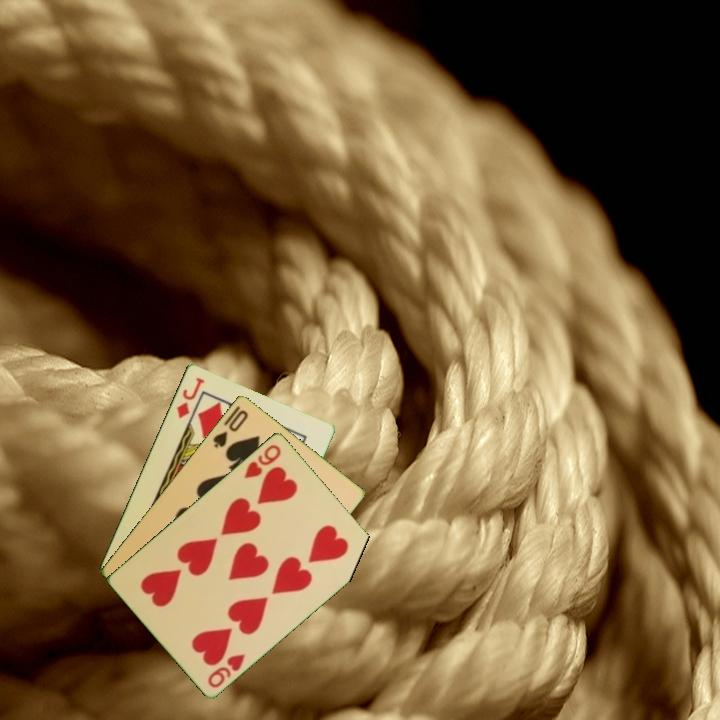10s: (209, 406, 251, 451)
9h: (240, 440, 284, 481), (204, 650, 248, 690)
Jd: (173, 373, 207, 421)
